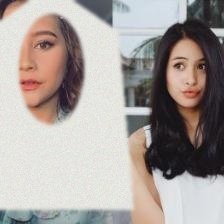Mukena: (0, 0, 134, 209)
